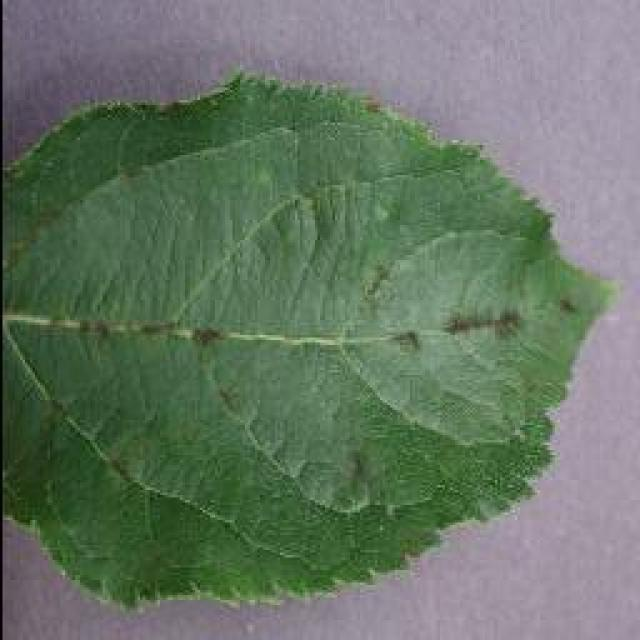apple scab disease: (0, 68, 618, 610)
